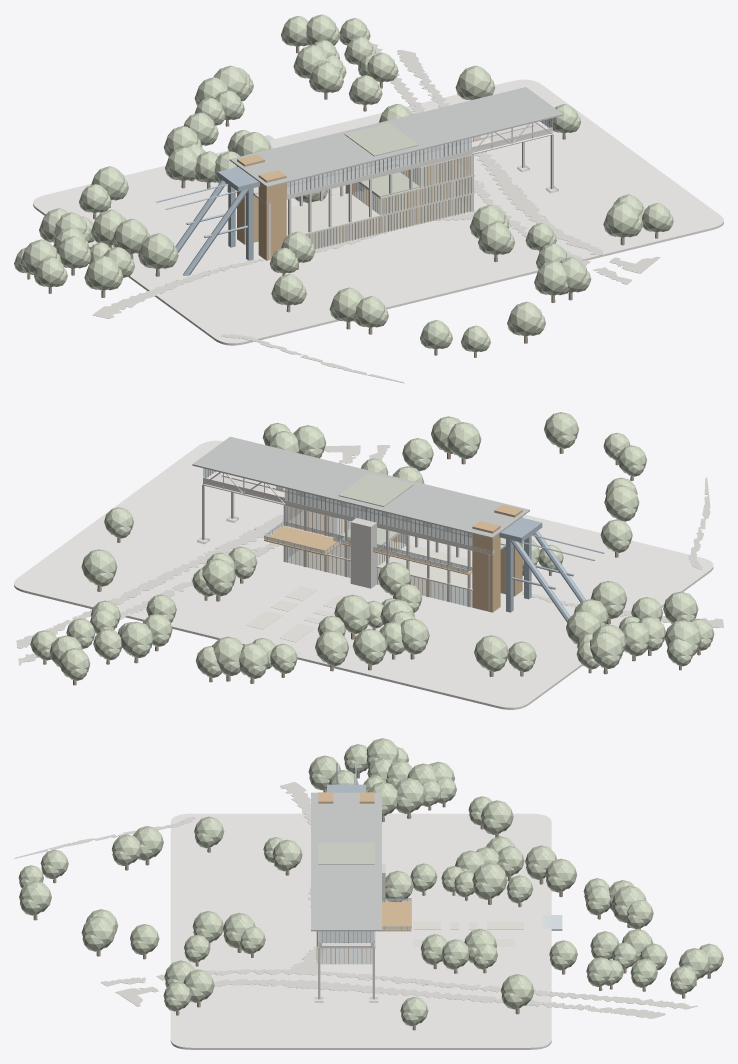
3 views of the same model, one above another, from view 1: azimuth 30°, elevation 25°; view 2: azimuth 150°, elevation 25°; view 3: azimuth 270°, elevation 25° (orthographic). The views are drawn at different scales.
Visible parts, largest first — view 1: SITE|基地底板|6, SITE|樹冠|4, RF|金屬屋面|15, SITE|道路鋪面|0, GF|木構|8, GF|玻璃|12, ML|清水混凝土|10, PL|玻璃|12, FND|纜車系統構件|9, ML|玻璃|12, FND|鋼構淺灰|7, PL|清水混凝土|10 (+10 smaller); view 2: SITE|基地底板|6, SITE|樹冠|4, RF|金屬屋面|15, SITE|道路鋪面|0, GF|木構|8, PL|玻璃|12, CL|玻璃|12, FND|纜車系統構件|9, ML|清水混凝土|10, GF|鋼構淺灰|7, ML|木構|8, GF|玻璃|12 (+12 smaller); view 3: SITE|基地底板|6, SITE|樹冠|4, RF|金屬屋面|15, SITE|道路鋪面|0, RF|綠屋頂|16, SITE|石材鋪面|2, SITE|樹幹|3, GF|玻璃|12, ML|木構|8, PL|鋼構淺灰|7, PL|玻璃|12, GF|木構|8.
Boxes of the visible parts, left/top/right/bottom form: SITE|基地底板|6: left=33, top=79, right=723, bottom=345; SITE|樹冠|4: left=14, top=14, right=673, bottom=352; RF|金屬屋面|15: left=229, top=87, right=563, bottom=187; SITE|道路鋪面|0: left=92, top=43, right=660, bottom=383; GF|木構|8: left=237, top=154, right=470, bottom=260; GF|玻璃|12: left=306, top=194, right=473, bottom=249; ML|清水混凝土|10: left=286, top=189, right=474, bottom=236; PL|玻璃|12: left=286, top=118, right=552, bottom=194; FND|纜車系統構件|9: left=175, top=168, right=253, bottom=275; ML|玻璃|12: left=352, top=176, right=473, bottom=215; FND|鋼構淺灰|7: left=269, top=154, right=472, bottom=260; PL|清水混凝土|10: left=253, top=123, right=552, bottom=202; SITE|基地底板|6: left=14, top=440, right=713, bottom=709; SITE|樹冠|4: left=30, top=412, right=714, bottom=680; RF|金屬屋面|15: left=192, top=436, right=529, bottom=538; SITE|道路鋪面|0: left=16, top=445, right=723, bottom=665; GF|木構|8: left=287, top=504, right=522, bottom=612; PL|玻璃|12: left=203, top=468, right=472, bottom=545; CL|玻璃|12: left=264, top=506, right=472, bottom=573; FND|纜車系統構件|9: left=506, top=519, right=585, bottom=622; ML|清水混凝土|10: left=326, top=541, right=472, bottom=590; GF|鋼構淺灰|7: left=202, top=485, right=376, bottom=588; ML|木構|8: left=264, top=526, right=472, bottom=575; GF|玻璃|12: left=286, top=546, right=472, bottom=607; SITE|基地底板|6: left=170, top=813, right=551, bottom=1049; SITE|樹冠|4: left=18, top=738, right=723, bottom=1026; RF|金屬屋面|15: left=311, top=792, right=381, bottom=931; SITE|道路鋪面|0: left=14, top=782, right=697, bottom=1018; RF|綠屋頂|16: left=318, top=843, right=374, bottom=864; SITE|石材鋪面|2: left=413, top=922, right=523, bottom=946; SITE|樹幹|3: left=33, top=773, right=710, bottom=1030; GF|玻璃|12: left=317, top=947, right=372, bottom=964; ML|木構|8: left=316, top=902, right=411, bottom=945; PL|鋼構淺灰|7: left=318, top=931, right=374, bottom=947; PL|玻璃|12: left=318, top=931, right=374, bottom=942; GF|木構|8: left=316, top=792, right=374, bottom=964.
Bounding box in the file's own units: 177 × 24.75 × 192.
